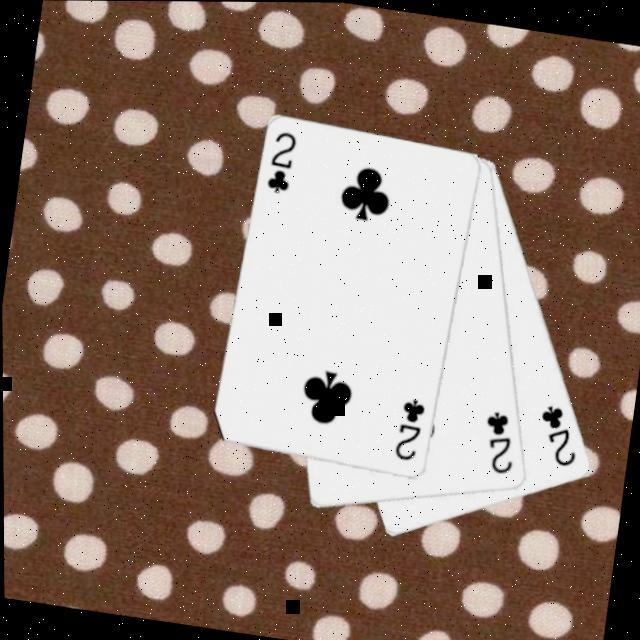2C: (532, 399, 588, 470), (476, 406, 523, 478), (391, 393, 430, 465), (264, 125, 303, 197)
